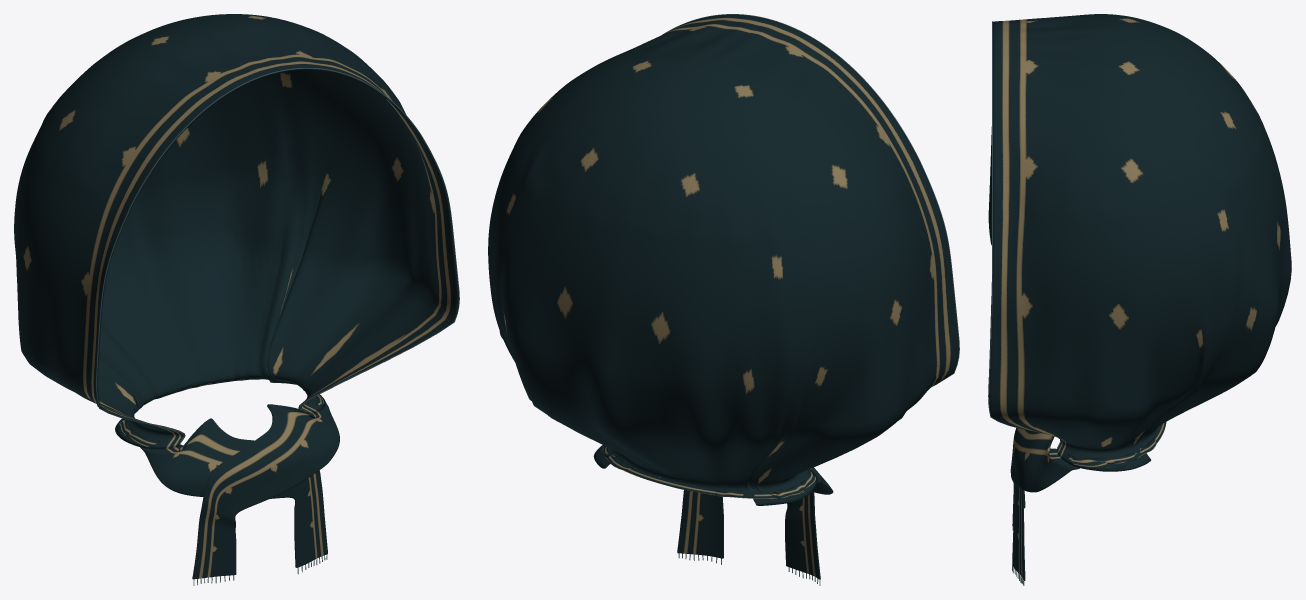
The model's file is Masculine-buttonup-pashmina236-headgear.glb.
3 views of the same model, side by side, from view 1: azimuth 30°, elevation 25°; view 2: azimuth 150°, elevation 25°; view 3: azimuth 270°, elevation 25° (orthographic). The views are drawn at different scales.
Visible parts, largest first — view 1: 226 headgear / Headwear / continuous woven pashmina236, 226 headgear / Headwear / face edge236; view 2: 226 headgear / Headwear / continuous woven pashmina236, 226 headgear / Headwear / face edge236; view 3: 226 headgear / Headwear / continuous woven pashmina236, 226 headgear / Headwear / face edge236.
Boxes of the visible parts, x1,y1,x2,y2 form: 226 headgear / Headwear / continuous woven pashmina236: (14,14,458,579); 226 headgear / Headwear / face edge236: (96,68,459,443); 226 headgear / Headwear / continuous woven pashmina236: (488,14,958,579); 226 headgear / Headwear / face edge236: (664,14,959,386); 226 headgear / Headwear / continuous woven pashmina236: (988,14,1291,580); 226 headgear / Headwear / face edge236: (988,21,1060,448).
Bounding box in the file's own units: 1.03 × 1.35 × 0.7127.
Materials: 3 (1 with a texture image).
